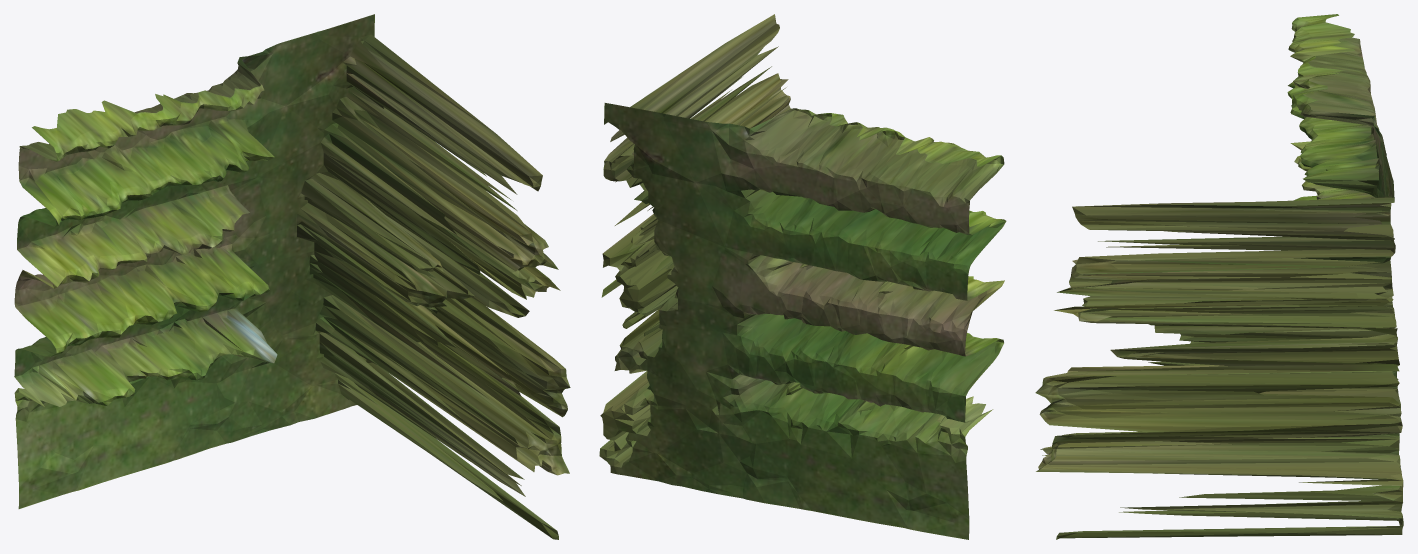
The model's file is map_10_70.obj.
3 views of the same model, side by side, from view 1: azimuth 30°, elevation 25°; view 2: azimuth 150°, elevation 25°; view 3: azimuth 270°, elevation 25° (orthographic). The views are drawn at different scales.
Visible parts, largest first — view 1: grp1; view 2: grp1; view 3: grp1.
Part boxes in pixels (<box>): grp1: <box>14,14,570,539</box>; grp1: <box>599,14,1006,539</box>; grp1: <box>1035,14,1403,539</box>.
Size of the model in its own units: 10 by 10 by 9.31.
Materials: 1 (1 with a texture image).
